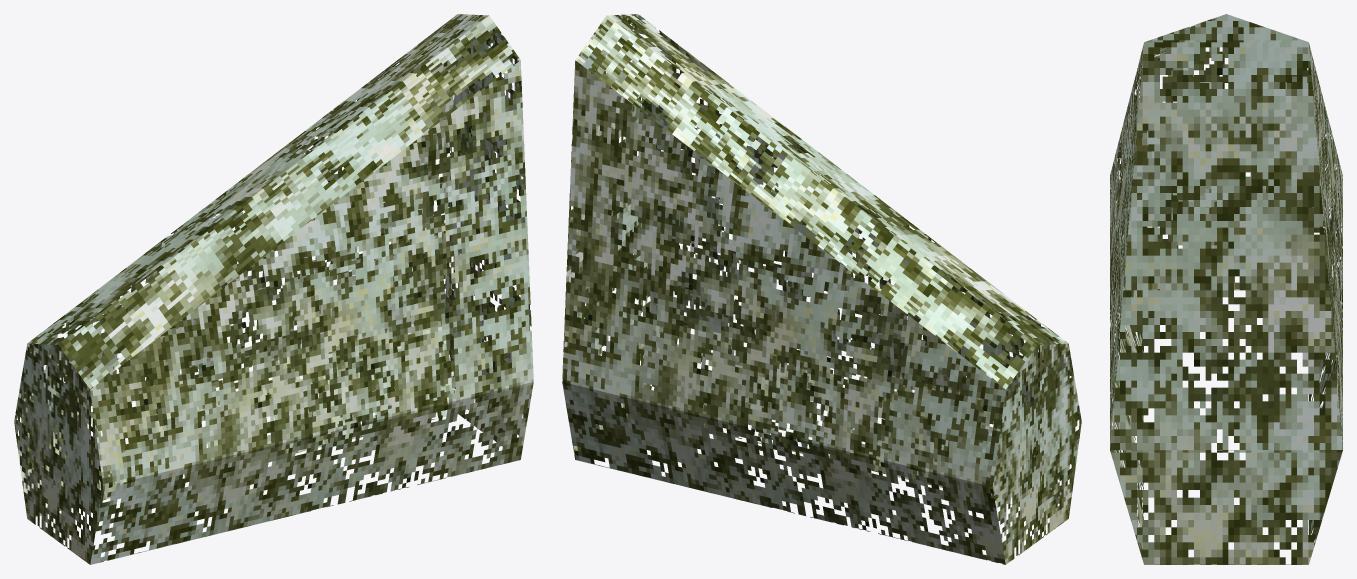
Rendered from bush_connector_straight_winter.glb.
The picture shows the model from 3 angles, left to right: view 1: azimuth 30°, elevation 25°; view 2: azimuth 150°, elevation 25°; view 3: azimuth 270°, elevation 25°; orthographic projection. The views are drawn at different scales.
Visible parts, largest first — view 1: bush_connector_straight_winter; view 2: bush_connector_straight_winter; view 3: bush_connector_straight_winter.
Part boxes in pixels (left/top/right/bottom): bush_connector_straight_winter: left=14, top=14, right=533, bottom=564; bush_connector_straight_winter: left=562, top=14, right=1081, bottom=564; bush_connector_straight_winter: left=1110, top=14, right=1342, bottom=564.
Bounding box in the file's own units: 2.01 × 1.88 × 0.7191.
1 material, 1 textured.
